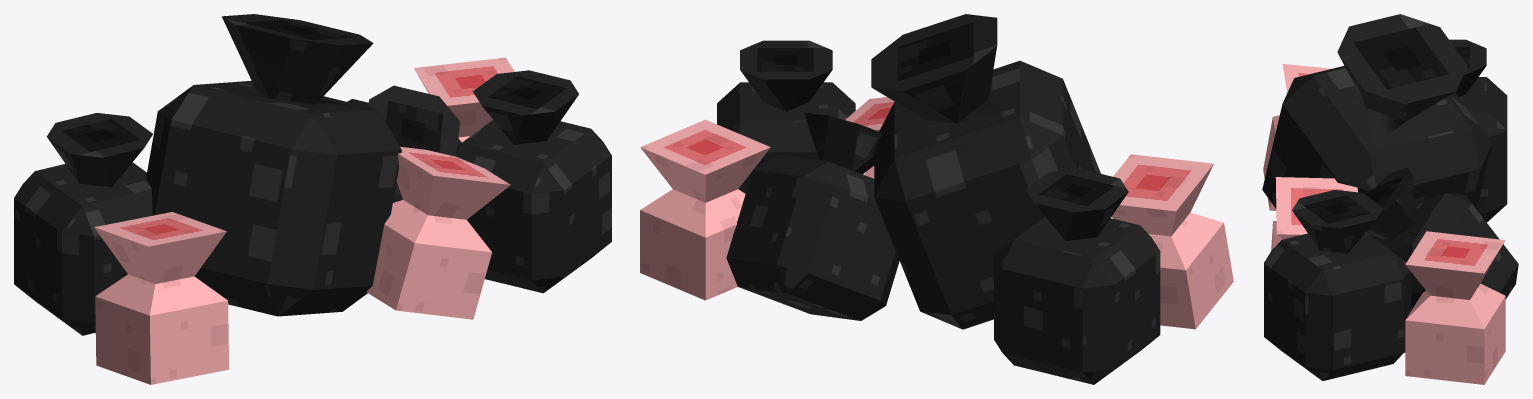
The model's file is C2_Garbage_02-3_v3.FBX.
The picture shows the model from 3 angles, left to right: view 1: azimuth 30°, elevation 25°; view 2: azimuth 150°, elevation 25°; view 3: azimuth 270°, elevation 25°; orthographic projection. The views are drawn at different scales.
Visible parts, largest first — view 1: Box034; view 2: Box034; view 3: Box034.
Part boxes in pixels (bbox=[...]): Box034: bbox=[14, 14, 611, 384]; Box034: bbox=[640, 14, 1233, 384]; Box034: bbox=[1262, 14, 1518, 384].
Bounding box in the file's own units: 240 × 142 × 124.
1 material, 1 textured.
